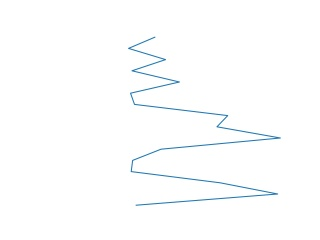majorRiverBedLagDeposit: (127, 36, 285, 209)
